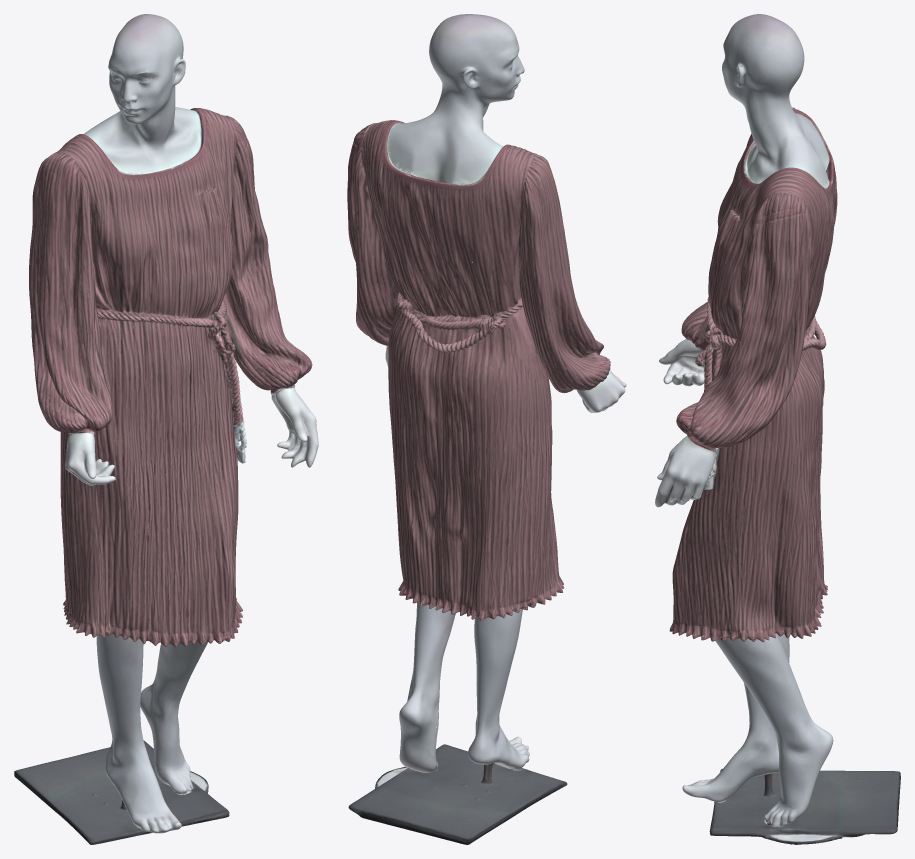
3 renders of one model, left to right at view 1: azimuth 30°, elevation 25°; view 2: azimuth 150°, elevation 25°; view 3: azimuth 270°, elevation 25°, orthographic. The views are drawn at different scales.
Parts seen in each view (by area): view 1: tripo_node_f51618af-c618-4d3c-82c0-658d4df8c7bc; view 2: tripo_node_f51618af-c618-4d3c-82c0-658d4df8c7bc; view 3: tripo_node_f51618af-c618-4d3c-82c0-658d4df8c7bc.
Boxes of the visible parts, bbox=[...] form: tripo_node_f51618af-c618-4d3c-82c0-658d4df8c7bc: bbox=[14, 14, 318, 844]; tripo_node_f51618af-c618-4d3c-82c0-658d4df8c7bc: bbox=[347, 14, 626, 844]; tripo_node_f51618af-c618-4d3c-82c0-658d4df8c7bc: bbox=[655, 14, 900, 844].
Size of the model in its own units: 0.3254 by 0.9816 by 0.2764.
Materials: 1 (1 with a texture image).
